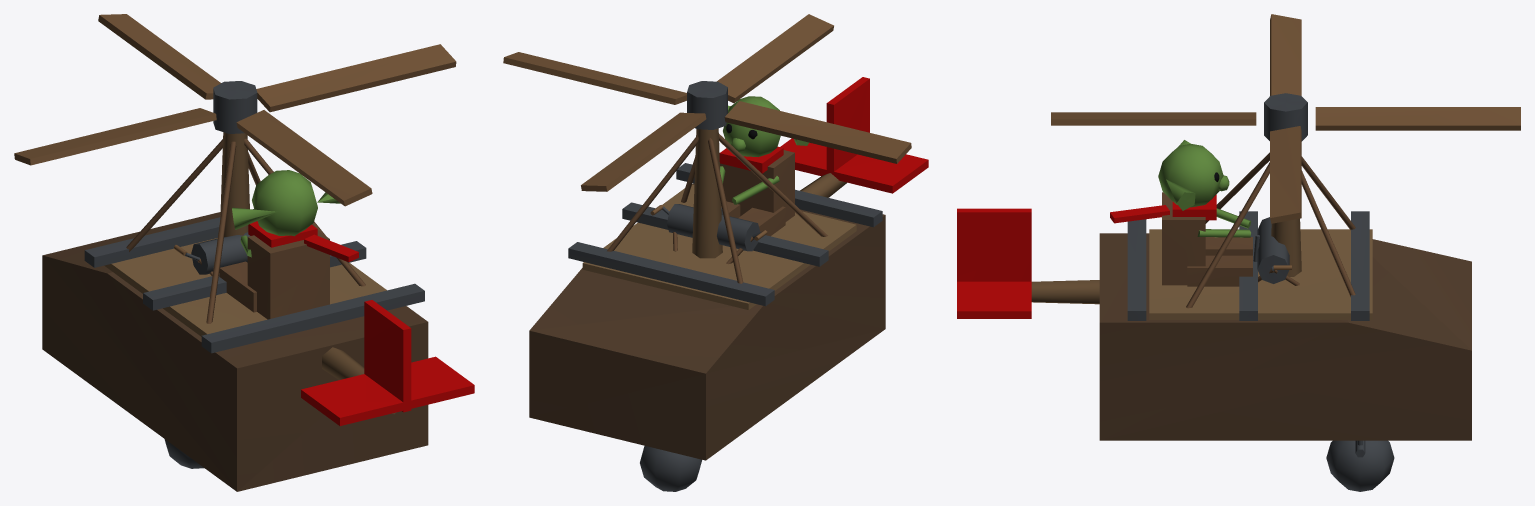
The model's file is bombardier-v3.glb.
The picture shows the model from 3 angles, left to right: view 1: azimuth 30°, elevation 25°; view 2: azimuth 150°, elevation 25°; view 3: azimuth 270°, elevation 25°; orthographic projection. The views are drawn at different scales.
Visible parts, largest first — view 1: bombardier-machine, propeller-main, bombardier-pilot; view 2: bombardier-machine, propeller-main, bombardier-pilot; view 3: bombardier-machine, propeller-main, bombardier-pilot.
Boxes of the visible parts, x1,y1,x2,y2 form: bombardier-machine: (42, 132, 474, 491); propeller-main: (14, 14, 456, 206); bombardier-pilot: (219, 170, 358, 319); bombardier-machine: (529, 77, 928, 491); propeller-main: (503, 14, 911, 191); bombardier-pilot: (719, 96, 808, 236); bombardier-machine: (957, 152, 1471, 491); propeller-main: (1051, 14, 1520, 223); bombardier-pilot: (1110, 140, 1252, 286).
Bounding box in the file's own units: 0.6437 × 0.5842 × 0.7724.
